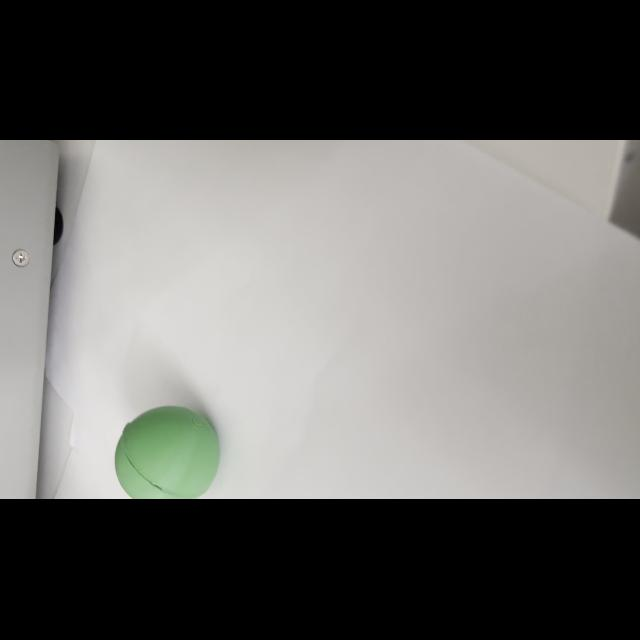objects: (112, 402, 220, 501)
